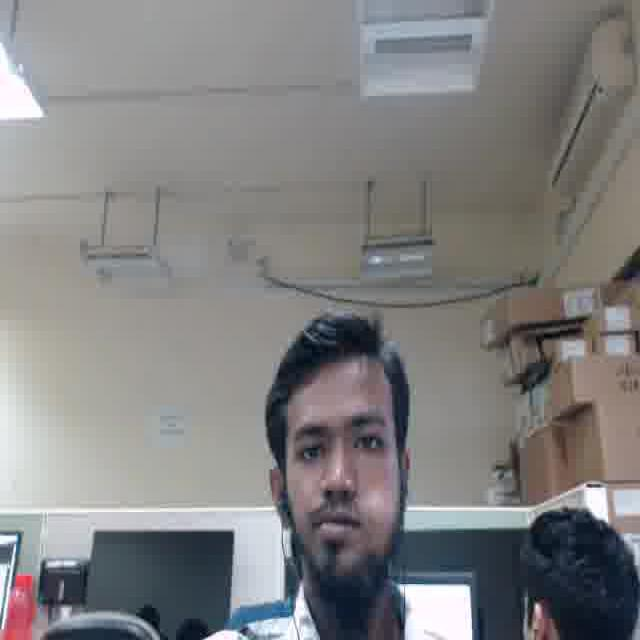Engaged: (282, 372, 397, 568)
